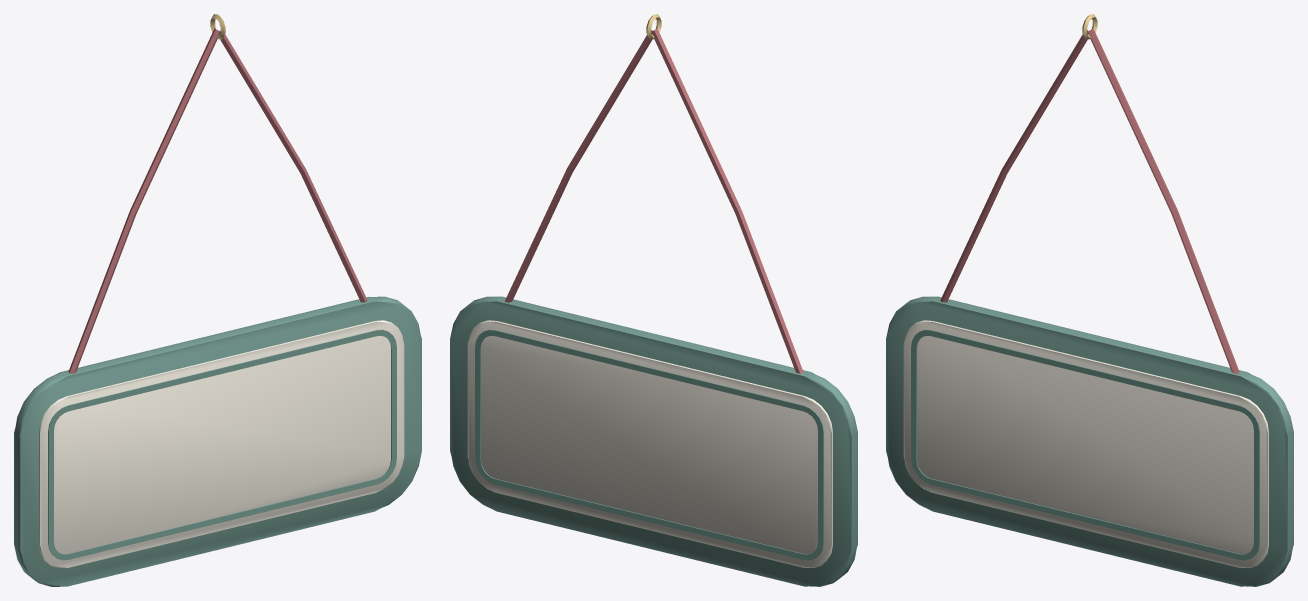
File: sign_door.glb
3 renders of one model, left to right at view 1: azimuth 30°, elevation 25°; view 2: azimuth 150°, elevation 25°; view 3: azimuth 330°, elevation 25°, orthographic.
Parts seen in each view (by area): view 1: sign_door; view 2: sign_door; view 3: sign_door.
Boxes of the visible parts, x1=… form: sign_door: x1=14, y1=14, x2=421, y2=586; sign_door: x1=450, y1=14, x2=857, y2=586; sign_door: x1=886, y1=14, x2=1293, y2=586.
Bounding box in the file's own units: 0.3 × 0.3798 × 0.0167.
